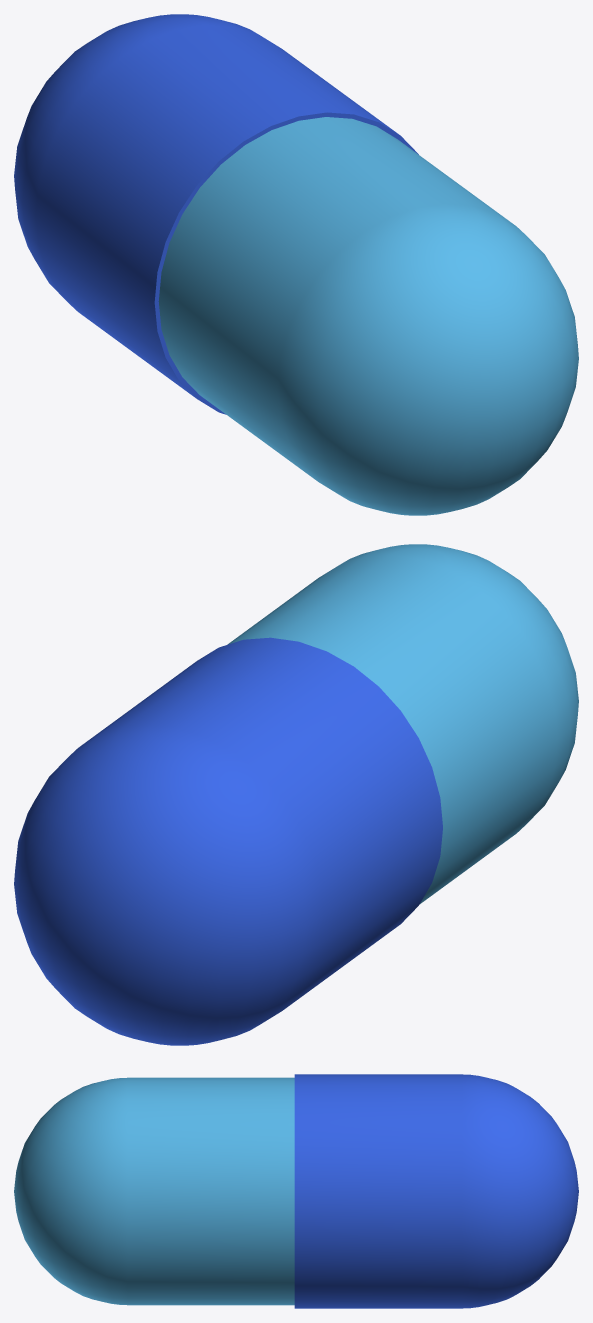
The model's file is Pills.fbx.
The picture shows the model from 3 angles, top to bottom: view 1: azimuth 30°, elevation 25°; view 2: azimuth 150°, elevation 25°; view 3: azimuth 270°, elevation 25°; orthographic projection. The views are drawn at different scales.
Visible parts, largest first — view 1: Pill_1_standalone; view 2: Pill_1_standalone; view 3: Pill_1_standalone.
Boxes of the visible parts, x1=… form: Pill_1_standalone: x1=14, y1=14, x2=578, y2=515; Pill_1_standalone: x1=14, y1=544, x2=578, y2=1045; Pill_1_standalone: x1=14, y1=1074, x2=578, y2=1308.
Bounding box in the file's own units: 0.495 × 0.495 × 1.19.
